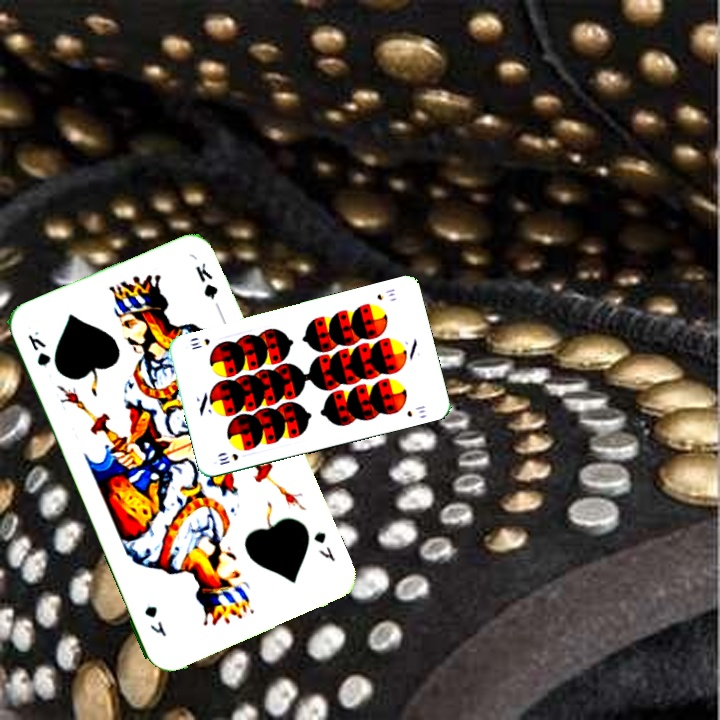GK: (23, 327, 53, 369), (309, 527, 338, 564)
S10: (215, 449, 241, 468), (373, 285, 398, 303)
